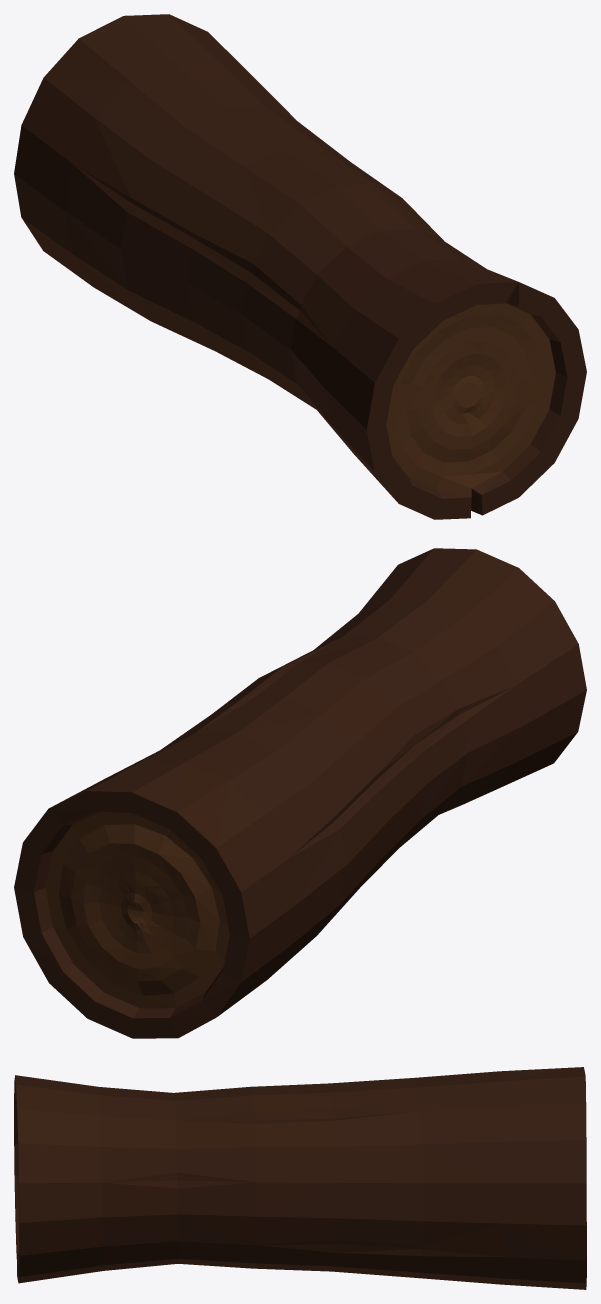
The model's file is wood-log.obj.
3 renders of one model, top to bottom at view 1: azimuth 30°, elevation 25°; view 2: azimuth 150°, elevation 25°; view 3: azimuth 270°, elevation 25°, orthographic. The views are drawn at different scales.
Parts seen in each view (by area): view 1: log-col; view 2: log-col; view 3: log-col.
Boxes of the visible parts, x1,y1,x2,y2 form: log-col: (14,14,586,519); log-col: (14,548,586,1038); log-col: (14,1067,586,1289).
Bounding box in the file's own units: 0.2154 × 0.2206 × 0.5636.
